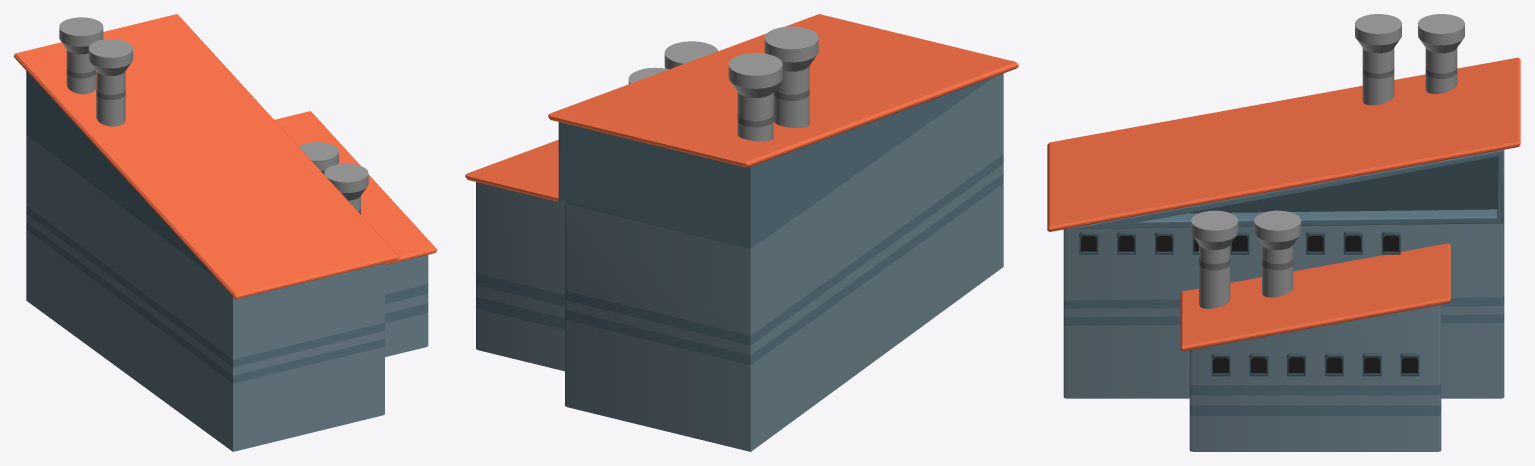
File: Factory.fbx
The picture shows the model from 3 angles, left to right: view 1: azimuth 30°, elevation 25°; view 2: azimuth 150°, elevation 25°; view 3: azimuth 270°, elevation 25°; orthographic projection. The views are drawn at different scales.
Visible parts, largest first — view 1: p_u_Factory; view 2: p_u_Factory; view 3: p_u_Factory.
Part boxes in pixels (x1,y1,x2,y2): p_u_Factory: (14,14,436,451); p_u_Factory: (465,14,1018,451); p_u_Factory: (1047,14,1520,451).
Size of the model in its own units: 781 by 810 by 1127.
